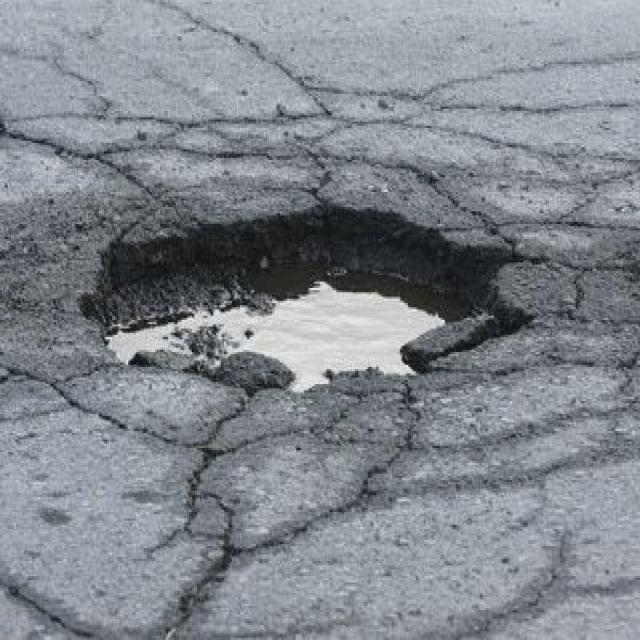Pothole: (77, 190, 538, 405)
